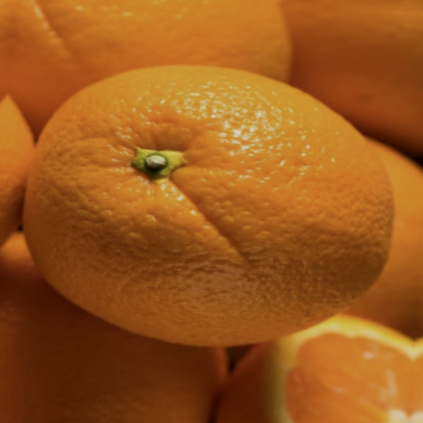orange: (0, 19, 423, 373)
